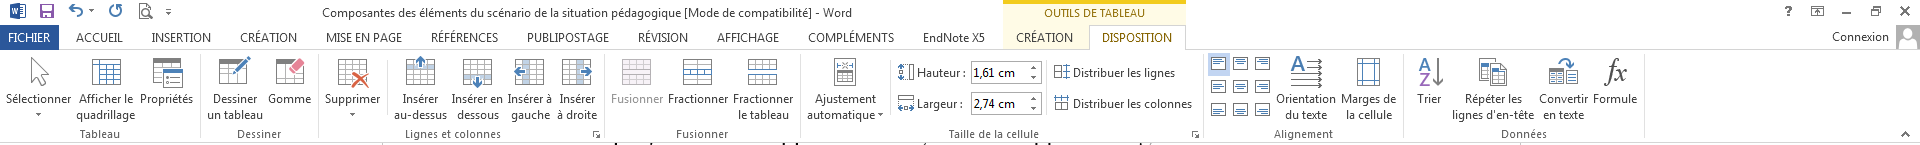texte: (1833, 25, 1920, 49), (1054, 64, 1176, 80), (1540, 79, 1588, 113), (921, 79, 962, 116), (77, 101, 135, 127), (141, 93, 257, 106), (1488, 100, 1534, 128), (159, 64, 187, 107), (216, 53, 249, 88), (809, 29, 894, 42), (1291, 54, 1325, 84), (558, 93, 661, 103), (1074, 100, 1191, 108), (898, 64, 960, 80), (403, 93, 501, 103), (1449, 100, 1482, 128), (808, 111, 883, 122), (432, 29, 498, 42), (323, 9, 396, 20), (1211, 57, 1270, 70), (1211, 80, 1270, 93), (740, 9, 811, 20), (612, 9, 681, 20), (816, 93, 876, 106), (1146, 95, 1191, 111), (1211, 103, 1270, 116), (1898, 21, 1920, 53), (528, 33, 609, 42), (1466, 93, 1522, 106), (833, 53, 853, 86), (971, 55, 994, 85), (241, 29, 296, 42), (1018, 29, 1071, 42), (326, 93, 380, 106), (1342, 93, 1396, 106), (7, 93, 71, 103), (1273, 130, 1333, 140), (639, 29, 687, 42), (1103, 33, 1171, 42), (735, 93, 793, 103), (1277, 93, 1335, 103), (669, 93, 724, 103), (80, 93, 133, 103), (718, 33, 779, 42), (924, 33, 984, 42), (1144, 64, 1176, 80), (152, 33, 211, 42), (1291, 57, 1322, 71), (339, 72, 369, 88), (1549, 68, 1578, 84), (973, 100, 1015, 111), (580, 53, 595, 84), (1056, 79, 1068, 116), (1128, 79, 1140, 116), (396, 111, 447, 119), (1386, 79, 1398, 113), (740, 111, 789, 119), (512, 111, 550, 122), (269, 93, 311, 103), (1596, 93, 1637, 103), (420, 9, 467, 17), (76, 33, 122, 42), (1479, 55, 1493, 85), (563, 9, 607, 17), (1100, 9, 1144, 17), (677, 130, 729, 138), (1502, 129, 1547, 138), (489, 9, 530, 17), (458, 111, 500, 119), (1286, 111, 1327, 119), (1544, 111, 1584, 119), (684, 9, 719, 18), (508, 93, 542, 103), (558, 111, 598, 119), (224, 111, 262, 119), (456, 130, 500, 138), (238, 130, 280, 138), (1044, 9, 1080, 17), (622, 26, 634, 50), (407, 130, 437, 140), (1129, 55, 1139, 85), (80, 130, 119, 138), (1359, 111, 1392, 119), (898, 95, 913, 111), (823, 9, 851, 17), (373, 33, 402, 42), (1417, 93, 1441, 103), (1007, 130, 1038, 138), (327, 33, 351, 42), (949, 130, 973, 138), (1419, 58, 1431, 71), (1614, 69, 1627, 81), (1558, 58, 1573, 68), (399, 9, 416, 17), (1420, 72, 1430, 86), (553, 101, 558, 127), (296, 72, 345, 75), (1084, 9, 1097, 17), (535, 9, 547, 17), (722, 9, 735, 17), (356, 33, 369, 42), (276, 59, 296, 64), (1900, 6, 1910, 16), (471, 9, 482, 17), (514, 68, 525, 76), (1000, 71, 1014, 77), (1550, 72, 1562, 79), (980, 130, 989, 138), (208, 113, 219, 119), (551, 9, 558, 17), (1347, 111, 1354, 119), (442, 130, 451, 138), (1785, 6, 1791, 16), (593, 131, 600, 138), (996, 130, 1002, 138), (1191, 131, 1199, 138), (898, 64, 904, 69), (838, 63, 841, 68), (1031, 107, 1036, 111), (247, 57, 251, 60), (1842, 12, 1851, 14), (1031, 66, 1036, 69), (1031, 76, 1036, 79), (1031, 97, 1036, 100), (36, 113, 40, 116), (350, 113, 355, 116), (167, 76, 169, 79), (421, 93, 422, 96), (470, 93, 471, 96), (527, 93, 528, 96), (817, 14, 819, 14)
